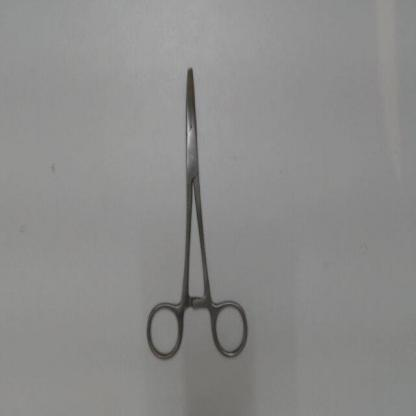Crile Artery Forceps: (142, 63, 256, 365)
